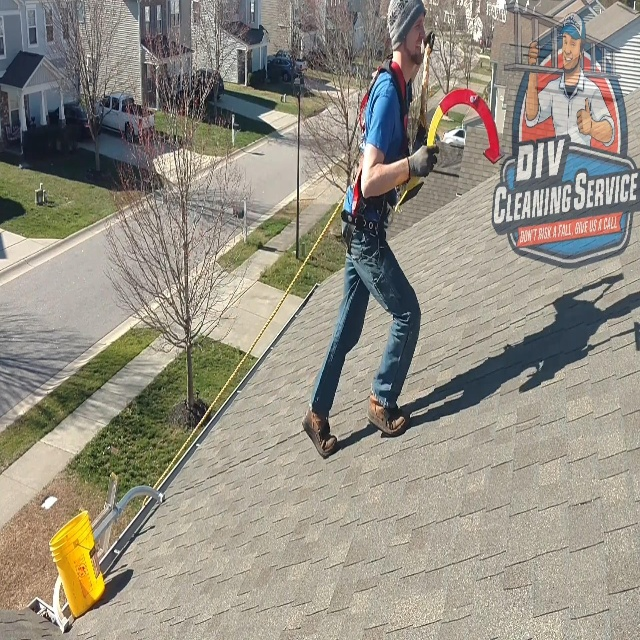Arnes_seguridad: (340, 62, 411, 257)
